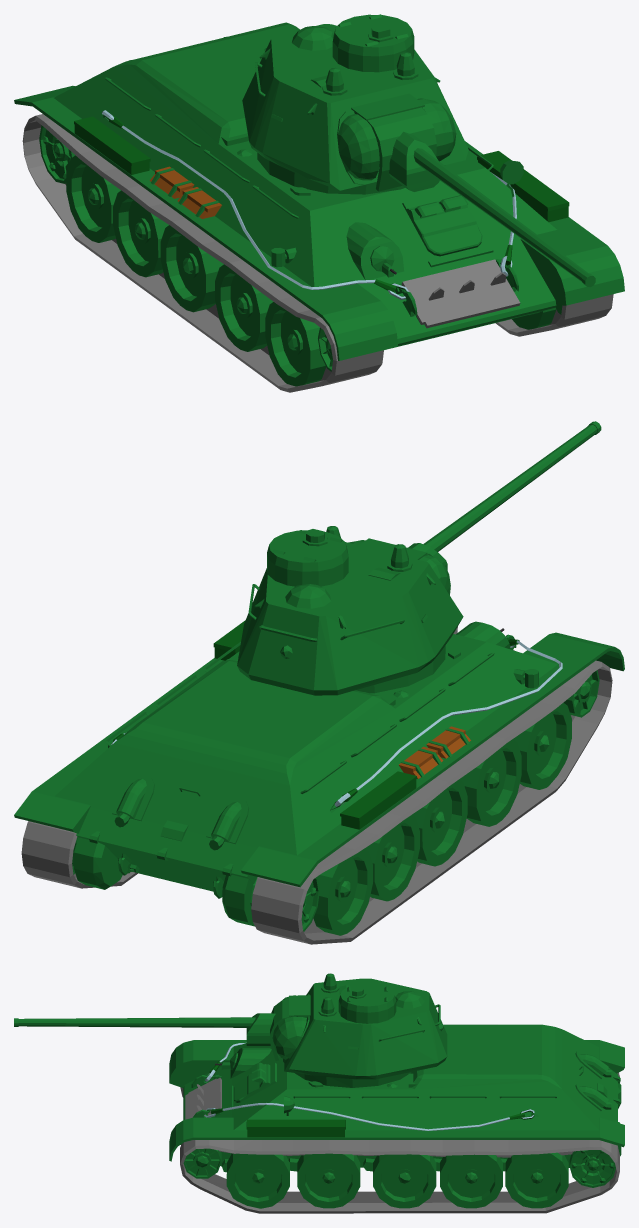
File: Tank5.fbx
3 renders of one model, top to bottom at view 1: azimuth 30°, elevation 25°; view 2: azimuth 150°, elevation 25°; view 3: azimuth 270°, elevation 25°, orthographic. The views are drawn at different scales.
Visible parts, largest first — view 1: Korpus, Bashny, Kolesa, Right_Track, Pushka, Left_Track; view 2: Korpus, Bashny, Kolesa, Right_Track, Pushka, Left_Track; view 3: Korpus, Kolesa, Bashny, Left_Track, Pushka.
Boxes of the visible parts, bbox=[...] form: Korpus: bbox=[14, 22, 624, 360]; Bashny: bbox=[242, 14, 468, 194]; Kolesa: bbox=[39, 125, 562, 386]; Right_Track: bbox=[22, 114, 383, 392]; Pushka: bbox=[367, 107, 595, 287]; Left_Track: bbox=[495, 294, 613, 336]; Korpus: bbox=[14, 620, 624, 926]; Bashny: bbox=[237, 526, 463, 695]; Kolesa: bbox=[72, 670, 599, 935]; Right_Track: bbox=[251, 660, 612, 944]; Pushka: bbox=[408, 421, 601, 570]; Left_Track: bbox=[21, 821, 137, 888]; Korpus: bbox=[169, 1024, 624, 1167]; Kolesa: bbox=[183, 1148, 615, 1208]; Bashny: bbox=[272, 973, 447, 1087]; Left_Track: bbox=[180, 1140, 619, 1213]; Pushka: bbox=[14, 999, 291, 1060].
Bounding box in the file's own units: 303 × 273 × 802.
